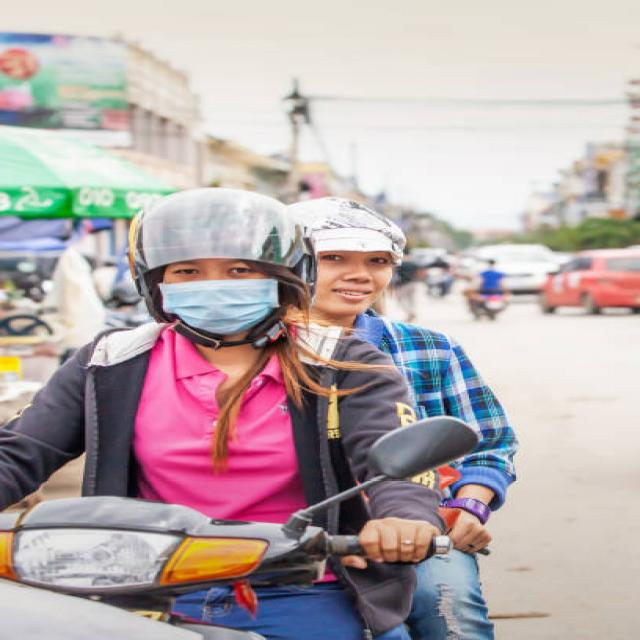With Helmet: (13, 174, 542, 638)
